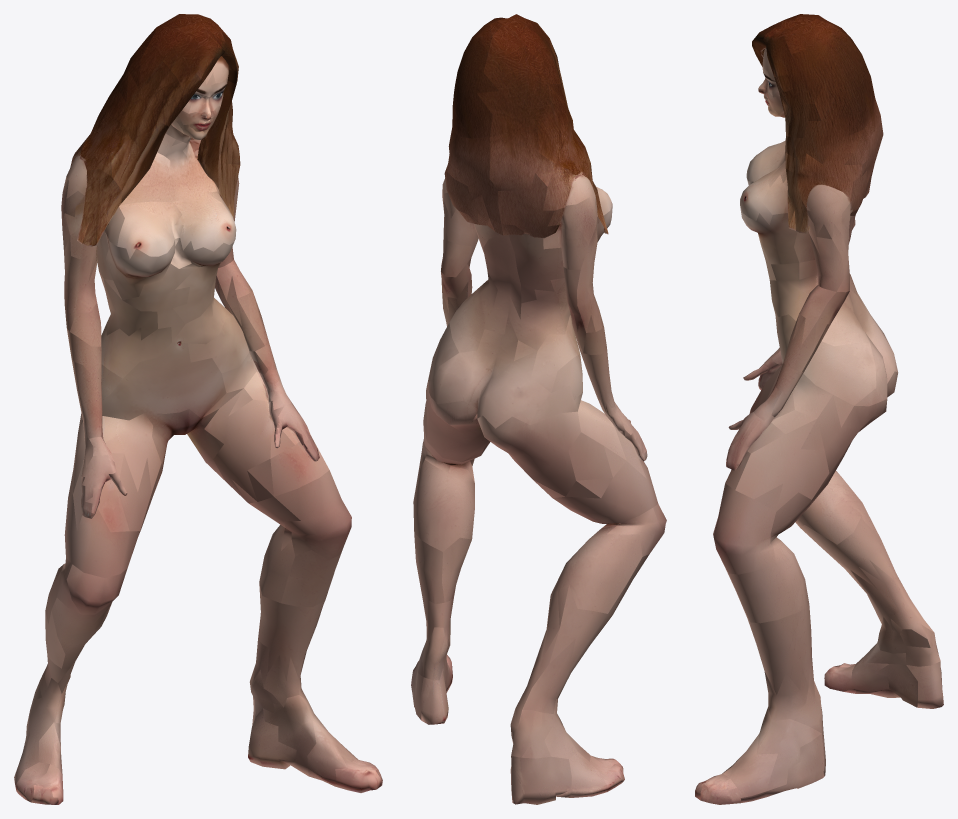
File: milla-body.glb
3 renders of one model, left to right at view 1: azimuth 30°, elevation 25°; view 2: azimuth 150°, elevation 25°; view 3: azimuth 270°, elevation 25°, orthographic. The views are drawn at different scales.
Bounding box in the file's own units: 0.3916 × 1 × 0.3115.
1 material, 1 textured.
